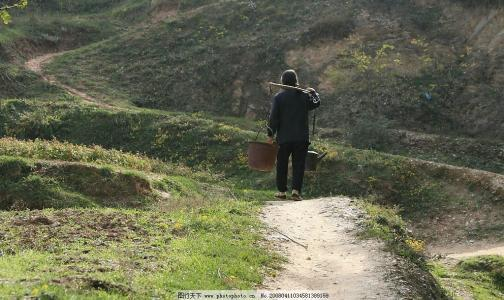up: (252, 70, 322, 196)
